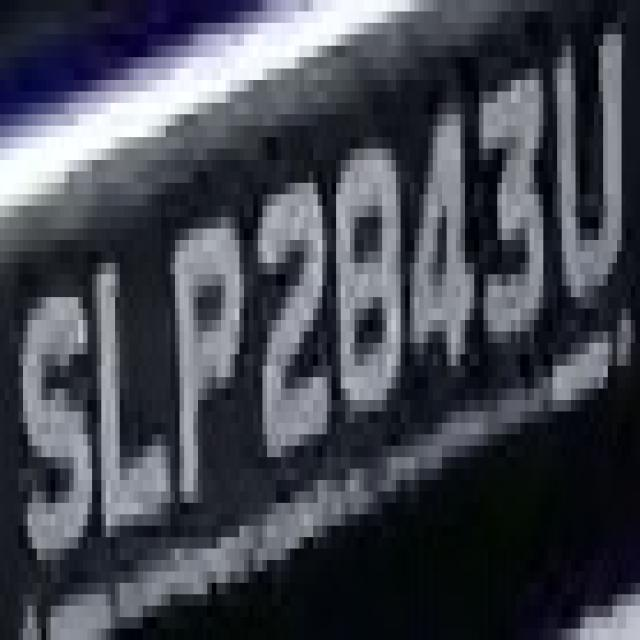2: (253, 172, 336, 468)
3: (465, 46, 548, 366)
4: (392, 103, 498, 423)
8: (331, 114, 410, 446)
L: (87, 228, 166, 548)
P: (152, 205, 244, 526)
S: (14, 251, 97, 606)
U: (552, 45, 631, 308)
